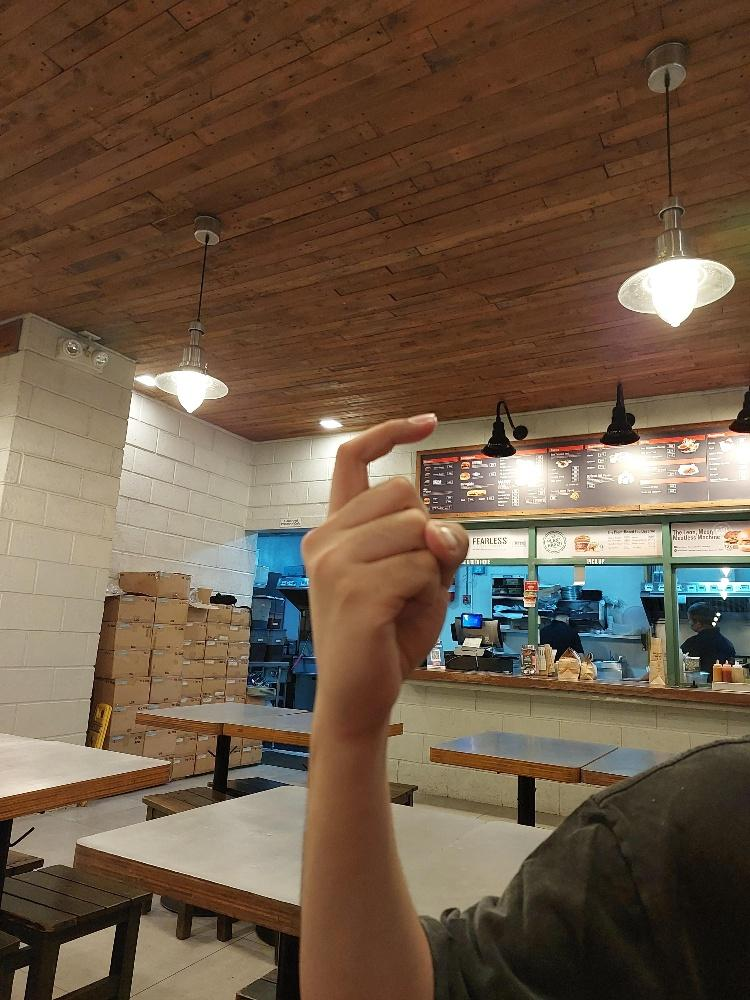x: (296, 408, 471, 741)
